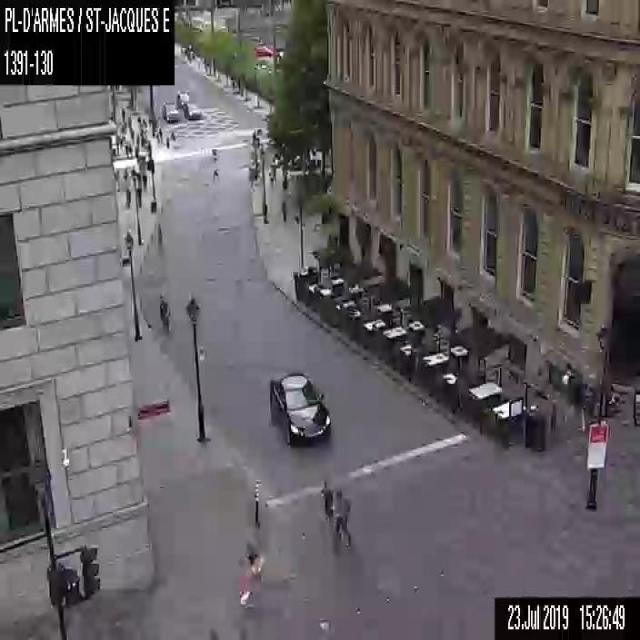cyclist: (158, 293, 171, 333)
pedestrian: (236, 538, 268, 606), (331, 489, 352, 552), (320, 478, 331, 522), (281, 171, 288, 192), (280, 199, 286, 221), (124, 188, 130, 208), (141, 171, 147, 190), (210, 148, 218, 162), (158, 124, 163, 142), (211, 165, 217, 180), (120, 107, 125, 121), (135, 132, 139, 146), (166, 135, 170, 148)
vehicle: (268, 369, 331, 444), (162, 100, 178, 122), (183, 101, 201, 119), (176, 87, 188, 107)
